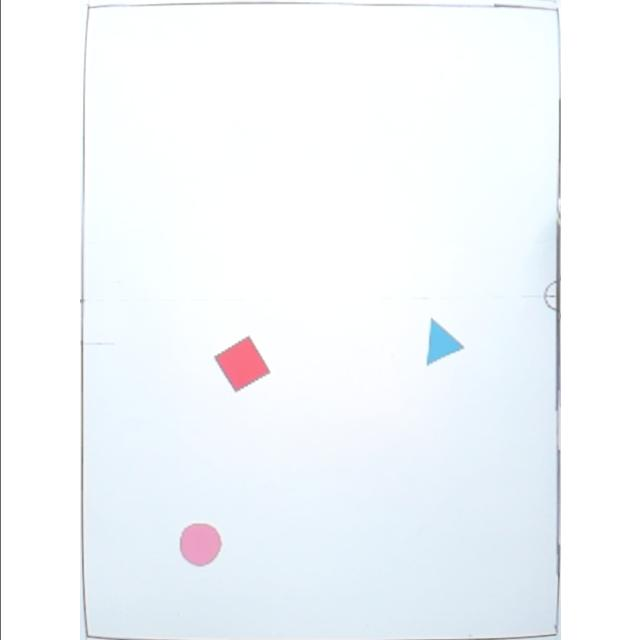blueTriangle: (424, 316, 466, 366)
pinkCircle: (178, 522, 224, 568)
redSquare: (214, 336, 272, 394)
